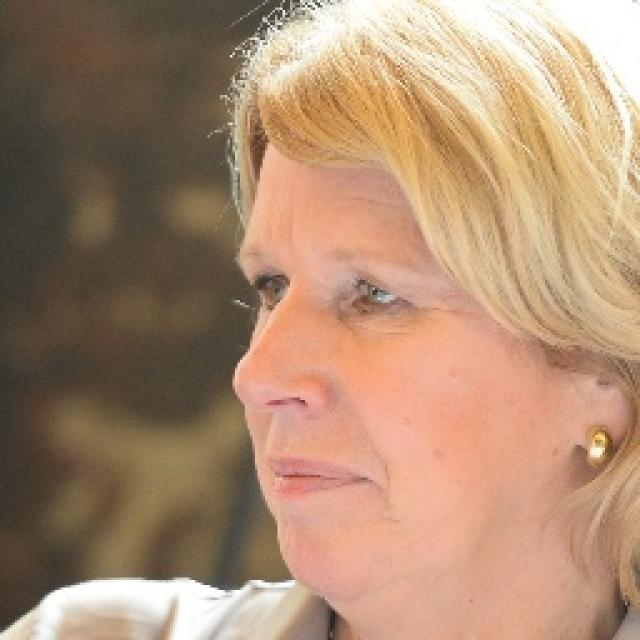earlobe: (579, 306, 640, 458)
